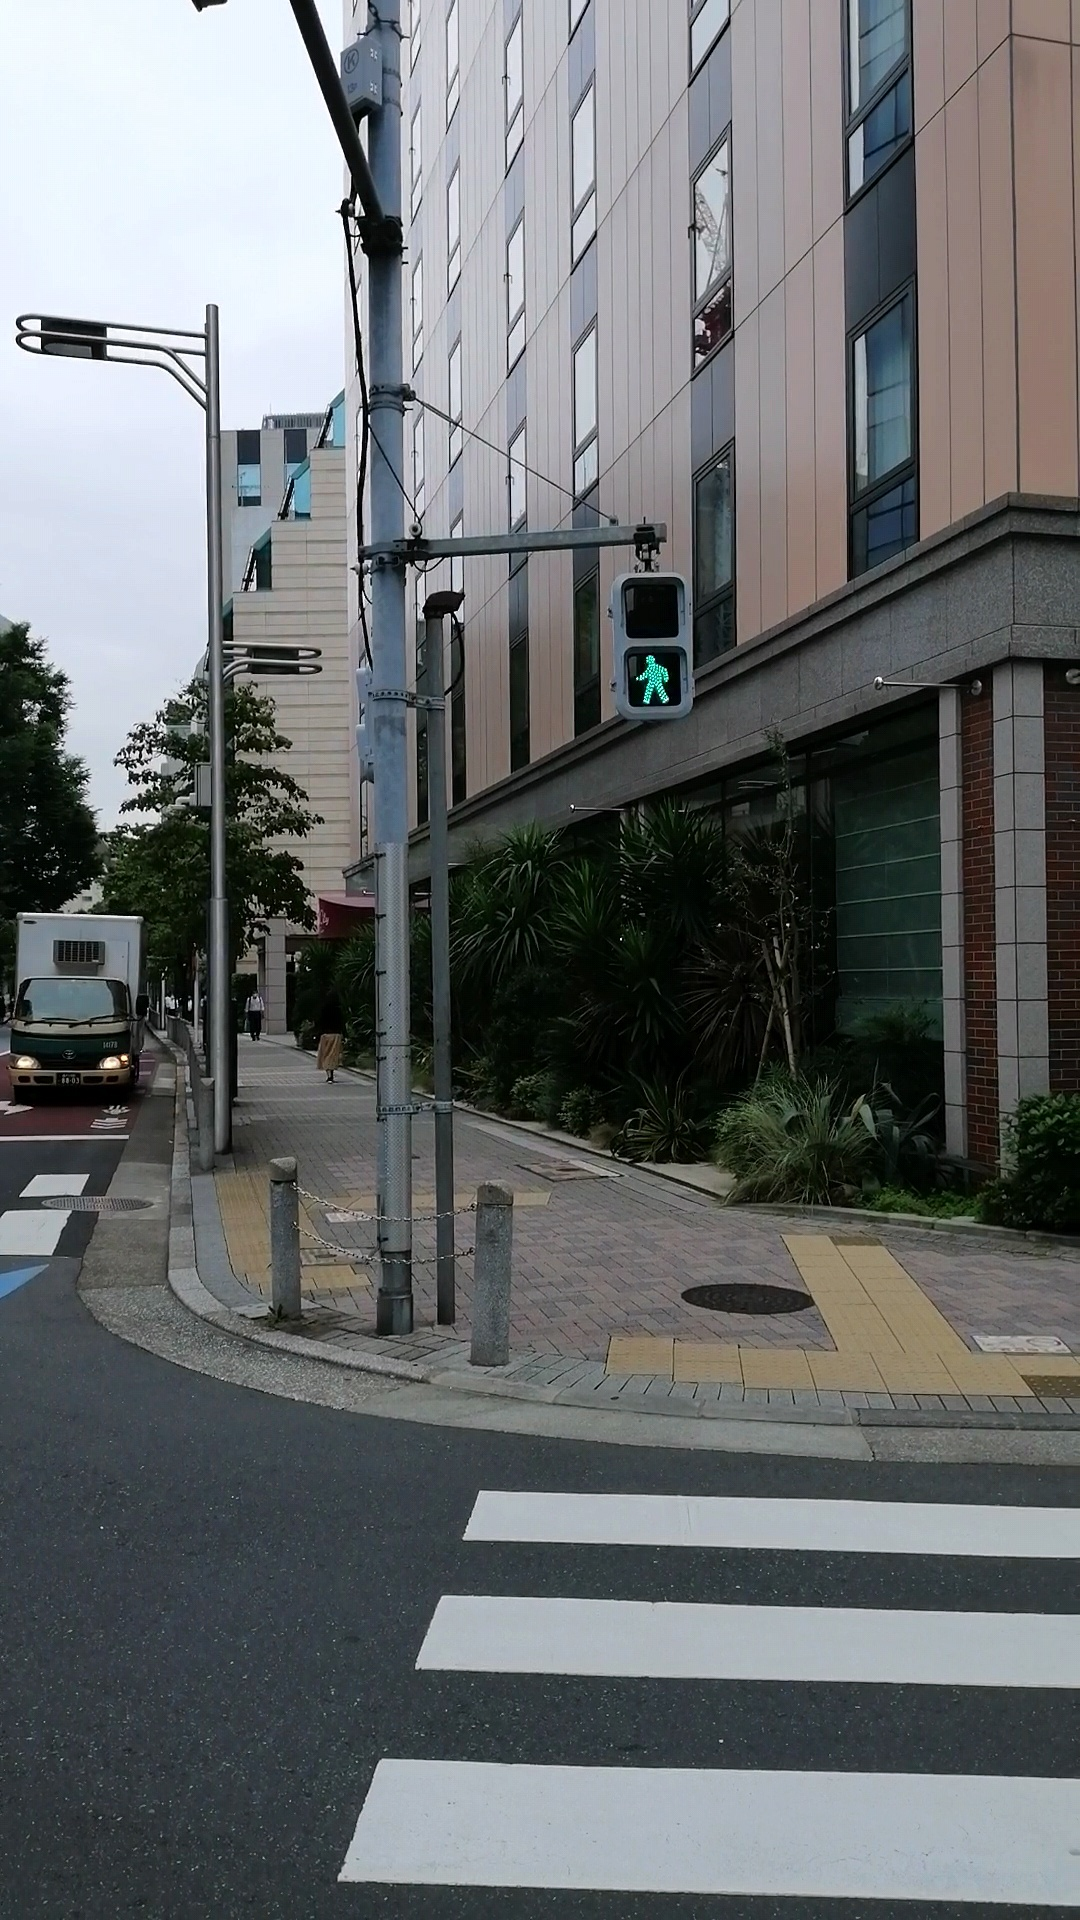green: (613, 570, 692, 721)
